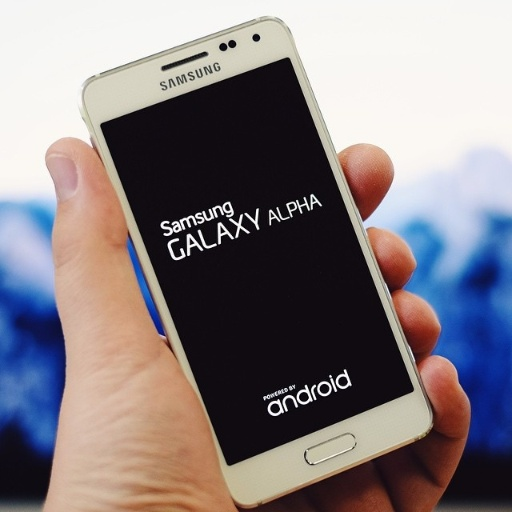hand: (44, 134, 473, 511)
